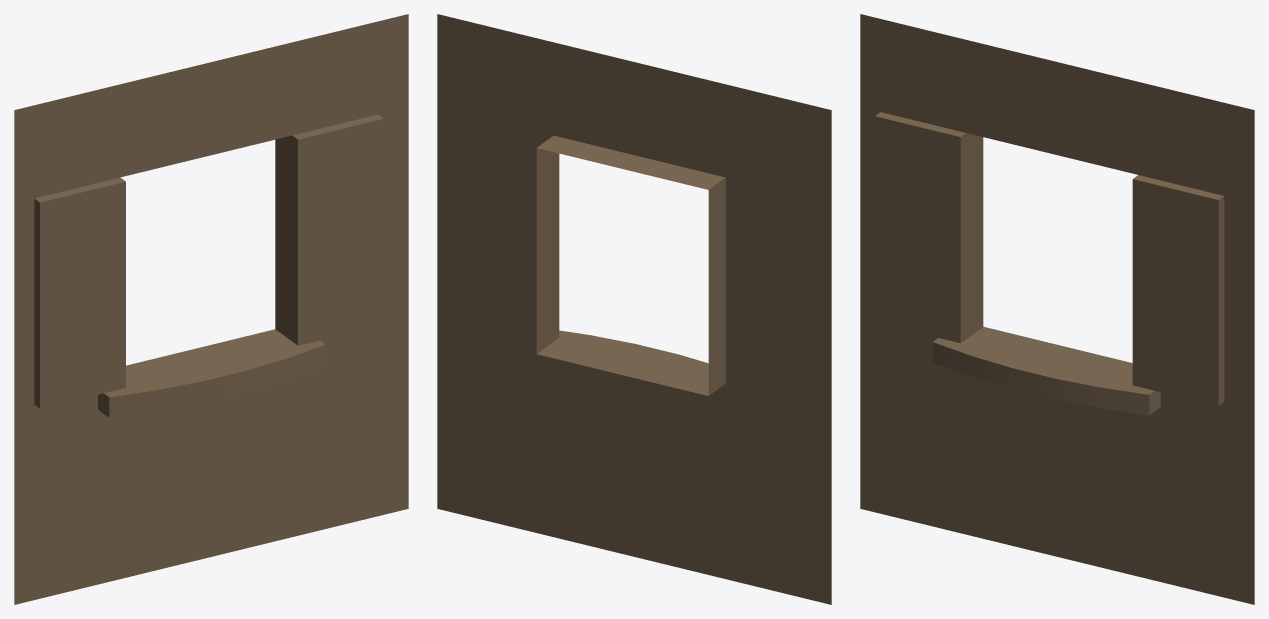
Rendered from 2x2,4_open_window_wall.FBX.
3 renders of one model, left to right at view 1: azimuth 30°, elevation 25°; view 2: azimuth 150°, elevation 25°; view 3: azimuth 330°, elevation 25°, orthographic.
Parts seen in each view (by area): view 1: wall, blinds, window_stool; view 2: wall, window_stool, blinds; view 3: wall, blinds, window_stool.
Boxes of the visible parts, bbox=[...] form: wall: bbox=[14, 14, 408, 604]; blinds: bbox=[34, 114, 383, 408]; window_stool: bbox=[98, 340, 325, 417]; wall: bbox=[437, 14, 831, 604]; window_stool: bbox=[554, 330, 708, 379]; blinds: bbox=[553, 152, 559, 341]; wall: bbox=[860, 14, 1254, 604]; blinds: bbox=[874, 112, 1224, 406]; window_stool: bbox=[932, 338, 1160, 415].
Size of the model in its own units: 200 by 240 by 31.
